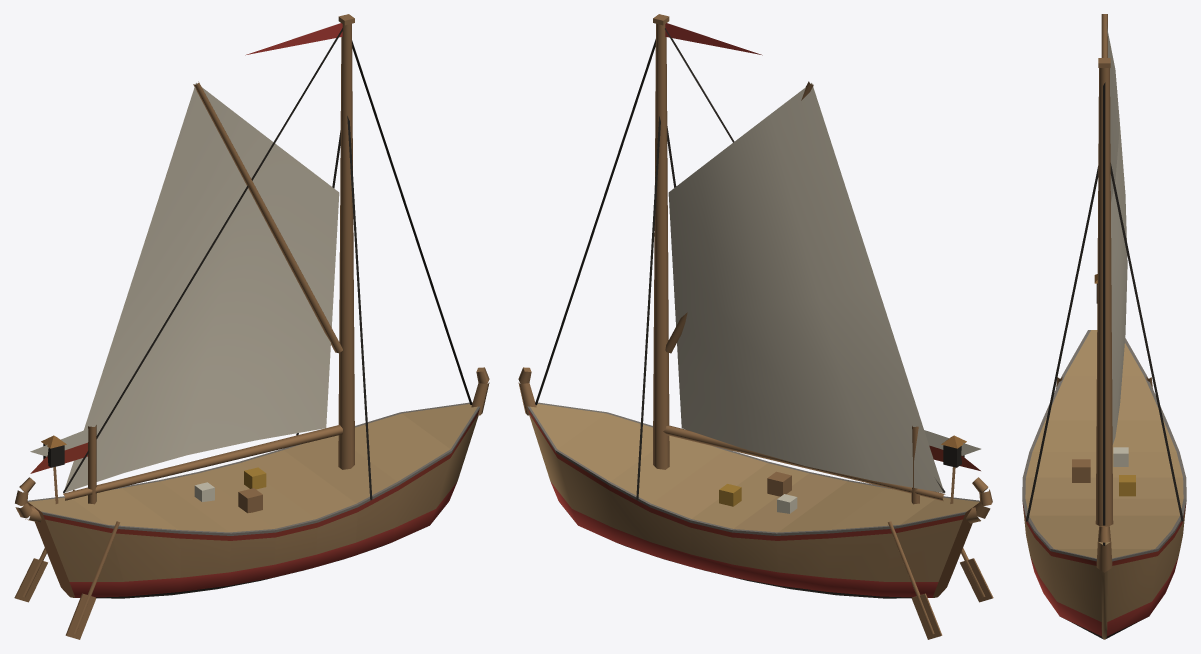
Rendered from hull_other_sprit_small.glb.
The picture shows the model from 3 angles, left to right: view 1: azimuth 30°, elevation 25°; view 2: azimuth 150°, elevation 25°; view 3: azimuth 270°, elevation 25°; orthographic projection. The views are drawn at different scales.
Parts seen in each view (by area): view 1: sail_main, hull, mast, boom_spar, deck, gaff, rigging, flag; view 2: sail_main, hull, mast, deck, rigging, boom_spar, flag; view 3: hull, mast, sail_main, rigging, deck, gaff.
Boxes of the visible parts, bbox=[...] form: sail_main: bbox=[64, 83, 339, 492]; hull: bbox=[15, 367, 489, 598]; mast: bbox=[88, 14, 354, 504]; boom_spar: bbox=[63, 28, 342, 500]; deck: bbox=[14, 435, 266, 639]; gaff: bbox=[193, 81, 342, 353]; rigging: bbox=[296, 40, 472, 500]; flag: bbox=[30, 23, 342, 473]; sail_main: bbox=[668, 83, 944, 493]; hull: bbox=[518, 367, 992, 598]; mast: bbox=[653, 14, 919, 504]; deck: bbox=[719, 435, 993, 639]; rigging: bbox=[535, 39, 676, 500]; boom_spar: bbox=[663, 28, 945, 501]; flag: bbox=[665, 23, 980, 470]; hull: bbox=[1022, 330, 1186, 639]; mast: bbox=[1095, 58, 1113, 526]; sail_main: bbox=[1106, 22, 1127, 444]; rigging: bbox=[1026, 82, 1183, 545]; deck: bbox=[1056, 274, 1152, 496]; gaff: bbox=[1101, 14, 1107, 57].
Bounding box in the file's own units: 10.62 × 11.39 × 3.09.
